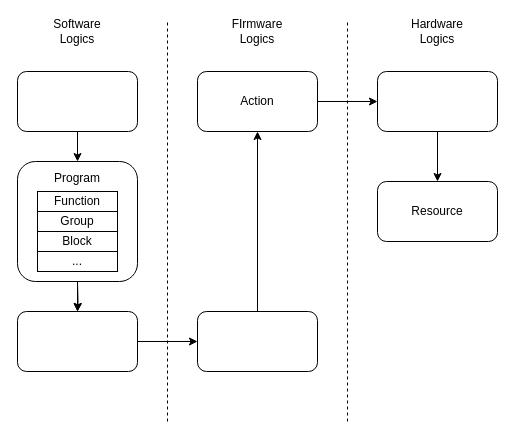
Image size: 515x440. Some labels were removed from this diagram. The box of each missing label's shape, as (x1, y1, x2, y2) in pixels:
Command: (16, 310, 138, 372)
DSL (antlr4 based): (16, 70, 138, 132)
Execution: (376, 70, 498, 132)
Schedule: (196, 310, 318, 372)
